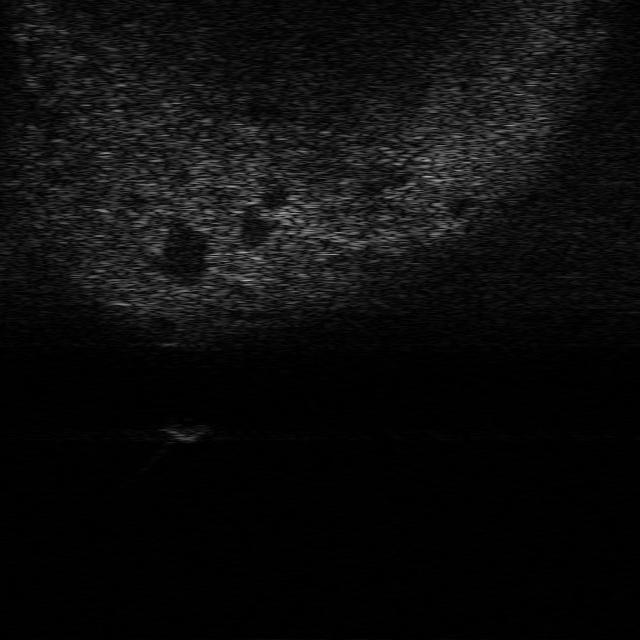cube: (162, 423, 212, 445)
